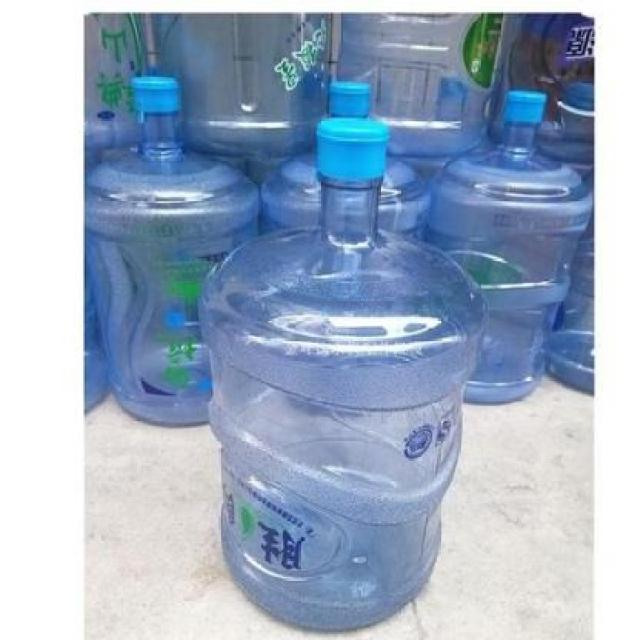coolerbottle: (194, 111, 494, 640)
